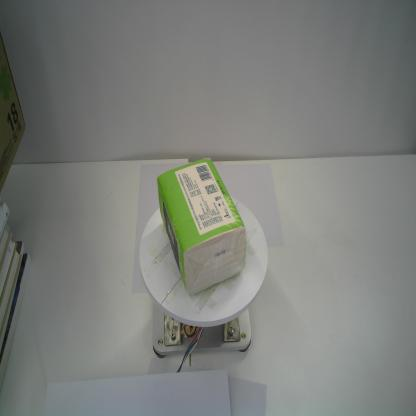Tissue: (154, 156, 248, 300)
